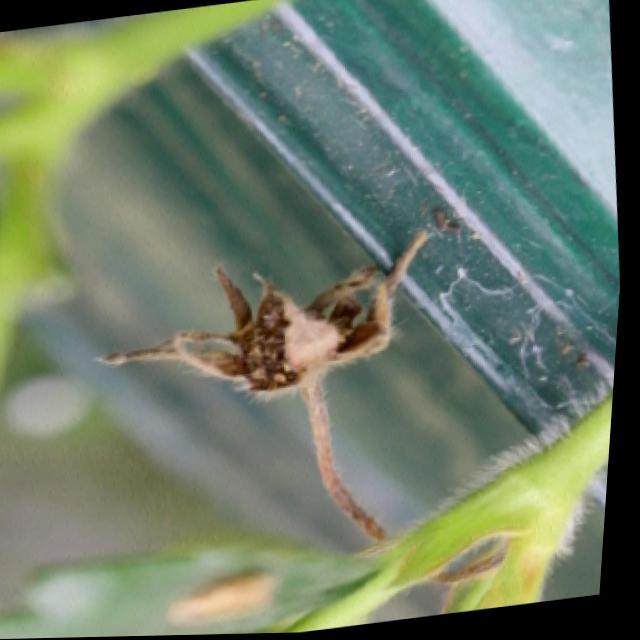Gray Mold: (101, 230, 427, 452)
